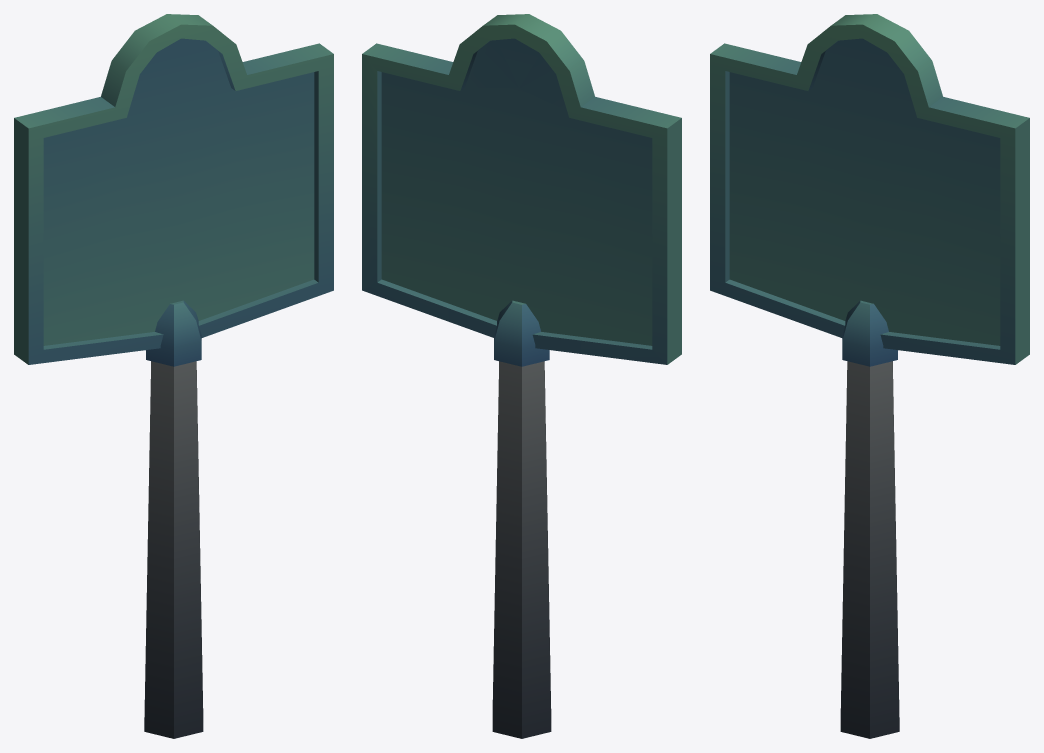
Rendered from Sign_Historic_01.fbx.
The picture shows the model from 3 angles, left to right: view 1: azimuth 30°, elevation 25°; view 2: azimuth 150°, elevation 25°; view 3: azimuth 330°, elevation 25°; orthographic projection.
Visible parts, largest first — view 1: HistoricSign_01_Face_01, HistoricSign_01_Post_01; view 2: HistoricSign_01_Face_01, HistoricSign_01_Post_01; view 3: HistoricSign_01_Face_01, HistoricSign_01_Post_01.
Boxes of the visible parts, box(x1,y1,x2,y2) form: HistoricSign_01_Face_01: box(14, 14, 333, 366); HistoricSign_01_Post_01: box(144, 361, 203, 738); HistoricSign_01_Face_01: box(362, 14, 681, 366); HistoricSign_01_Post_01: box(492, 361, 551, 738); HistoricSign_01_Face_01: box(710, 14, 1029, 366); HistoricSign_01_Post_01: box(840, 361, 899, 738).
Bounding box in the file's own units: 120 × 266 × 20.1.
